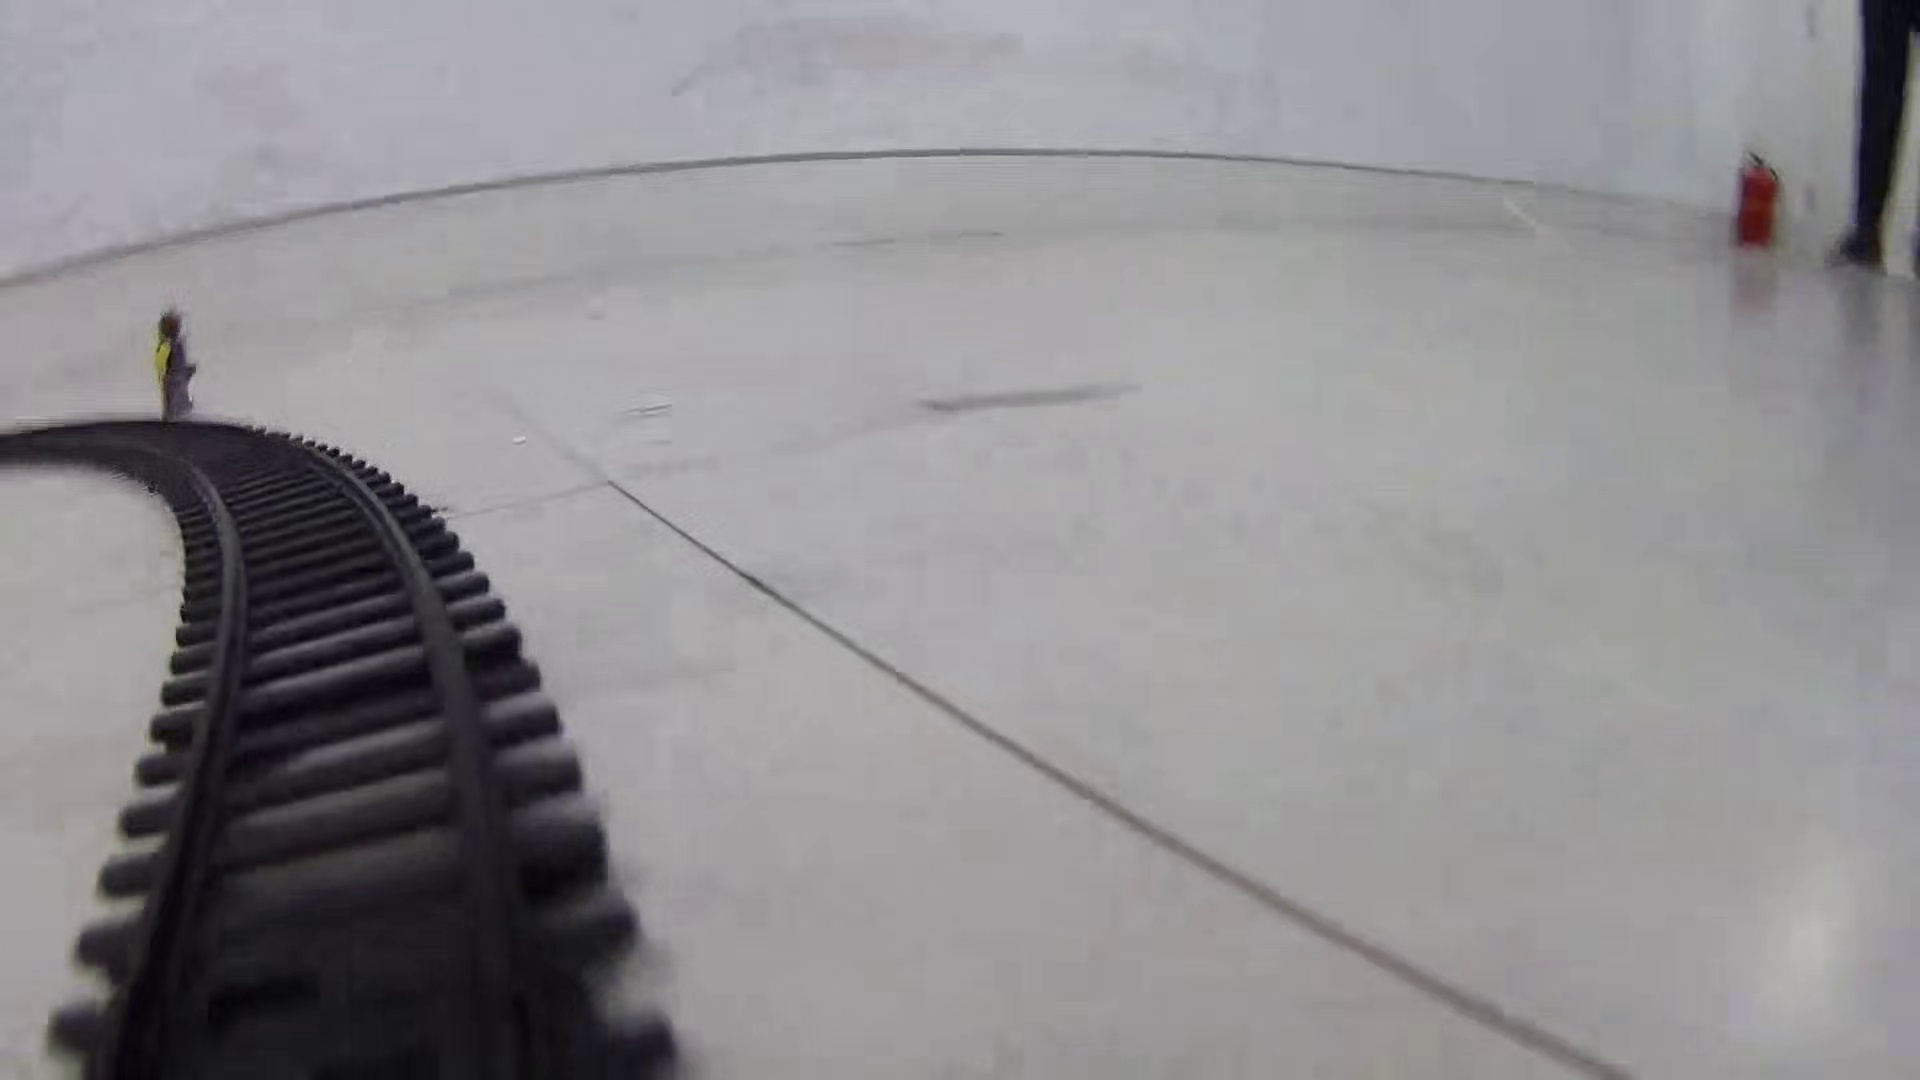people: (153, 307, 201, 422)
